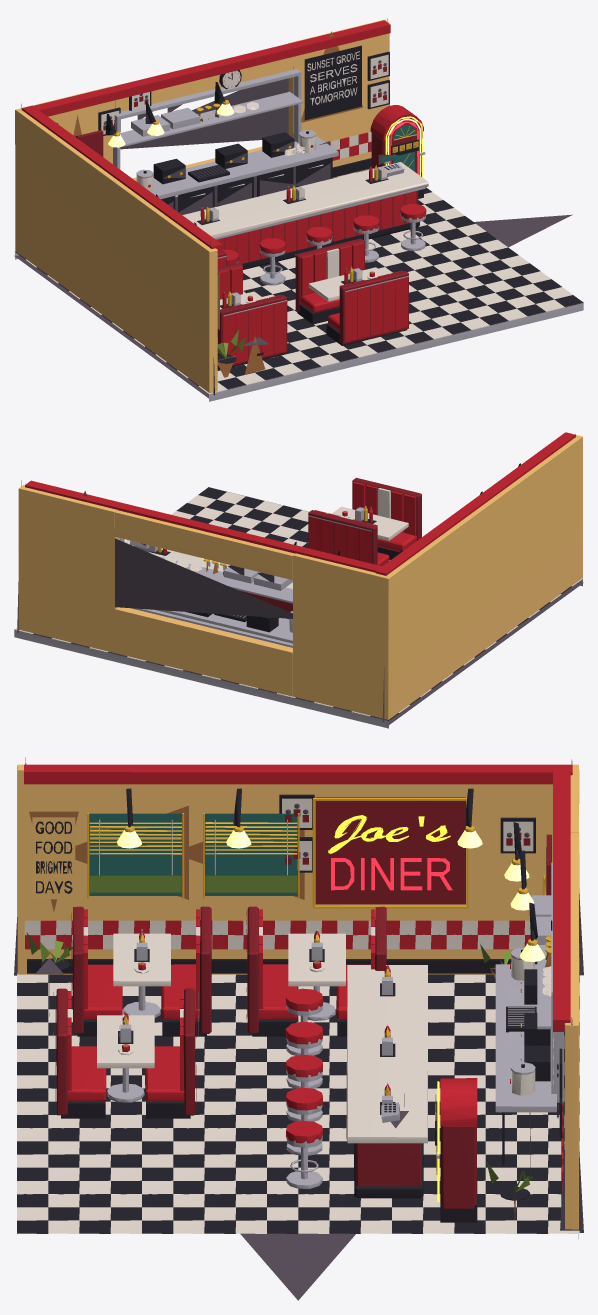
The picture shows the model from 3 angles, top to bottom: view 1: azimuth 30°, elevation 25°; view 2: azimuth 150°, elevation 25°; view 3: azimuth 270°, elevation 25°; orthographic projection. The views are drawn at different scales.
Visible parts, largest first — view 1: interior_pal_windowGlow, interior_pal_survivorRed, interior_pal_uiDark, interior_pal_picketWhite, interior_pal_sidewalk, interior_pal_asphalt, interior_pal_blood, interior_pal_woodWarm, interior_pal_schoolBusYellow, interior_pal_backpackTeal; view 2: interior_pal_windowGlow, interior_pal_survivorRed, interior_pal_asphalt, interior_pal_sidewalk, interior_pal_picketWhite, interior_pal_uiDark, interior_pal_blood; view 3: interior_pal_picketWhite, interior_pal_uiDark, interior_pal_windowGlow, interior_pal_survivorRed, interior_pal_blood, interior_pal_sidewalk, interior_pal_backpackTeal, interior_pal_schoolBusYellow, interior_pal_asphalt, interior_pal_grass, interior_pal_woodWarm, interior_emi_survivorRed (+1 smaller).
Part boxes in pixels (x1,y1,x2,y2): interior_pal_windowGlow: [15, 19, 389, 392]; interior_pal_survivorRed: [22, 20, 426, 363]; interior_pal_uiDark: [15, 45, 583, 389]; interior_pal_picketWhite: [26, 51, 572, 394]; interior_pal_sidewalk: [15, 69, 583, 401]; interior_pal_asphalt: [14, 18, 572, 398]; interior_pal_blood: [103, 64, 422, 366]; interior_pal_woodWarm: [73, 31, 373, 377]; interior_pal_schoolBusYellow: [168, 103, 418, 306]; interior_pal_backpackTeal: [382, 124, 416, 171]; interior_pal_windowGlow: [18, 435, 582, 719]; interior_pal_survivorRed: [25, 432, 575, 575]; interior_pal_asphalt: [17, 434, 583, 725]; interior_pal_sidewalk: [14, 487, 582, 728]; interior_pal_picketWhite: [14, 488, 582, 716]; interior_pal_uiDark: [33, 487, 571, 720]; interior_pal_blood: [240, 477, 421, 618]; interior_pal_picketWhite: [17, 798, 579, 1233]; interior_pal_uiDark: [17, 794, 579, 1233]; interior_pal_windowGlow: [17, 764, 579, 1229]; interior_pal_survivorRed: [24, 764, 572, 1192]; interior_pal_blood: [56, 797, 530, 1208]; interior_pal_sidewalk: [53, 862, 578, 1238]; interior_pal_backpackTeal: [89, 813, 297, 895]; interior_pal_schoolBusYellow: [87, 798, 551, 1174]; interior_pal_asphalt: [14, 757, 583, 1300]; interior_pal_grass: [26, 875, 533, 1192]; interior_pal_woodWarm: [29, 805, 551, 1219]; interior_emi_survivorRed: [331, 858, 452, 890].
Bounding box in the file's own units: 12.32 × 4.03 × 9.12.
